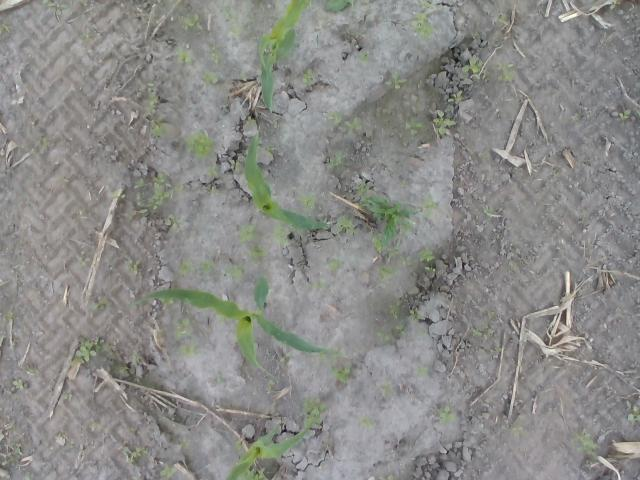Maize: (126, 275, 328, 381), (242, 131, 330, 236), (258, 0, 312, 114), (224, 415, 316, 480)
Weeds: (359, 193, 419, 259), (70, 337, 112, 367), (168, 0, 202, 30), (146, 172, 172, 209), (570, 428, 600, 459), (300, 395, 326, 426), (185, 131, 215, 157), (410, 12, 434, 41), (460, 58, 490, 81), (432, 110, 457, 135), (334, 214, 360, 236), (144, 114, 169, 136), (313, 346, 345, 361), (420, 194, 440, 218), (222, 262, 244, 283), (123, 446, 148, 464), (238, 224, 260, 244), (495, 60, 515, 82), (178, 338, 200, 357), (236, 466, 265, 480), (375, 379, 396, 398), (173, 317, 192, 338), (270, 226, 288, 248), (42, 0, 70, 14), (384, 73, 408, 89), (471, 324, 494, 340), (330, 366, 350, 384), (247, 246, 268, 263), (438, 405, 456, 424), (405, 118, 424, 136), (143, 92, 158, 114), (324, 0, 354, 11), (416, 246, 436, 262), (175, 46, 192, 64), (298, 194, 317, 210), (164, 213, 184, 228), (376, 265, 394, 281), (201, 71, 219, 87), (329, 151, 345, 169), (446, 88, 464, 104), (627, 400, 640, 422), (200, 259, 216, 276), (345, 117, 362, 133), (124, 259, 140, 276), (158, 464, 177, 478), (176, 261, 195, 275), (112, 364, 134, 376), (128, 208, 148, 221), (354, 181, 370, 196), (91, 298, 111, 310), (208, 44, 220, 64), (326, 110, 342, 125), (388, 301, 400, 320), (227, 23, 244, 36), (357, 414, 372, 428), (36, 134, 51, 148), (408, 309, 424, 322), (398, 255, 414, 268), (301, 68, 314, 84), (413, 364, 430, 376), (375, 331, 391, 343), (326, 258, 342, 270), (224, 6, 236, 22), (495, 12, 508, 26), (394, 322, 406, 336), (312, 280, 326, 292), (229, 158, 241, 172), (418, 0, 436, 9), (205, 184, 218, 196), (619, 108, 632, 120), (81, 29, 93, 42), (177, 438, 191, 449), (483, 204, 494, 218), (422, 264, 437, 274), (12, 378, 24, 390), (10, 442, 22, 454), (88, 421, 104, 430), (358, 50, 369, 63), (278, 352, 292, 362), (160, 298, 174, 308), (205, 166, 218, 176), (216, 314, 228, 324), (78, 256, 90, 266), (0, 22, 10, 34), (245, 116, 258, 125), (134, 192, 142, 206), (134, 177, 144, 188), (173, 184, 184, 194), (4, 310, 14, 321), (610, 0, 622, 9), (266, 146, 276, 156), (508, 260, 518, 270), (138, 84, 154, 90), (2, 458, 14, 466), (215, 372, 223, 384), (512, 426, 524, 434), (62, 393, 74, 401), (378, 475, 396, 480), (516, 204, 526, 213), (346, 27, 356, 36), (240, 70, 248, 81), (399, 179, 408, 188), (130, 354, 140, 362), (112, 189, 120, 199), (470, 32, 480, 40), (489, 348, 502, 354), (235, 440, 242, 451), (268, 379, 274, 391), (551, 168, 558, 176), (26, 364, 33, 372), (82, 0, 90, 6), (270, 404, 276, 412), (573, 114, 578, 121)
